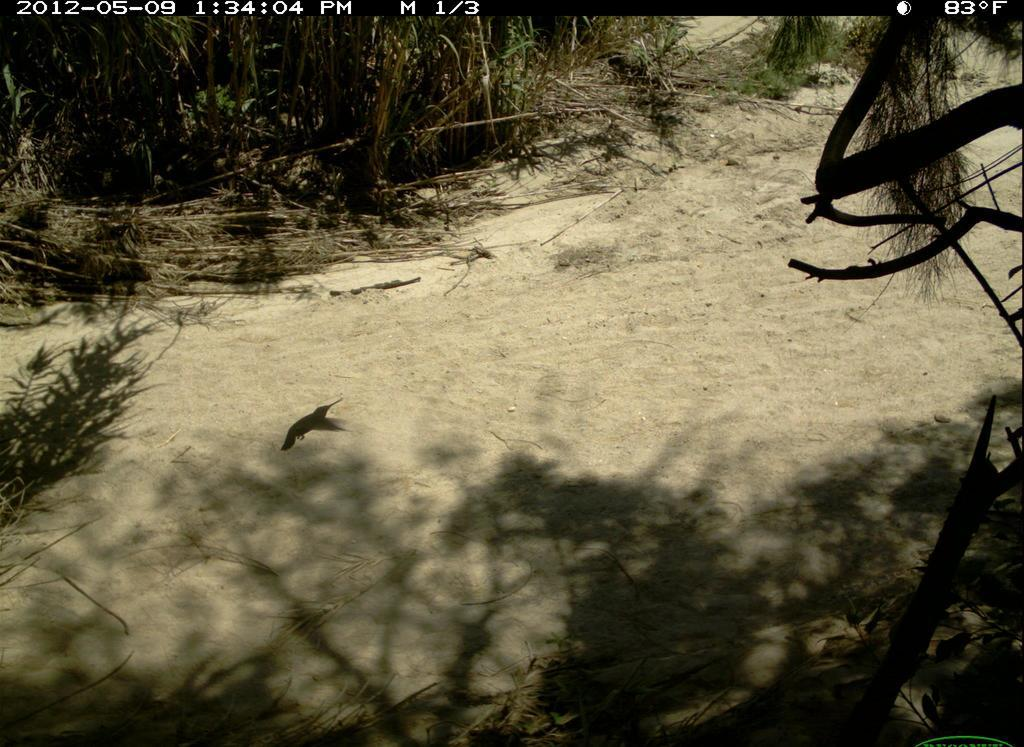bird: (276, 393, 349, 461)
